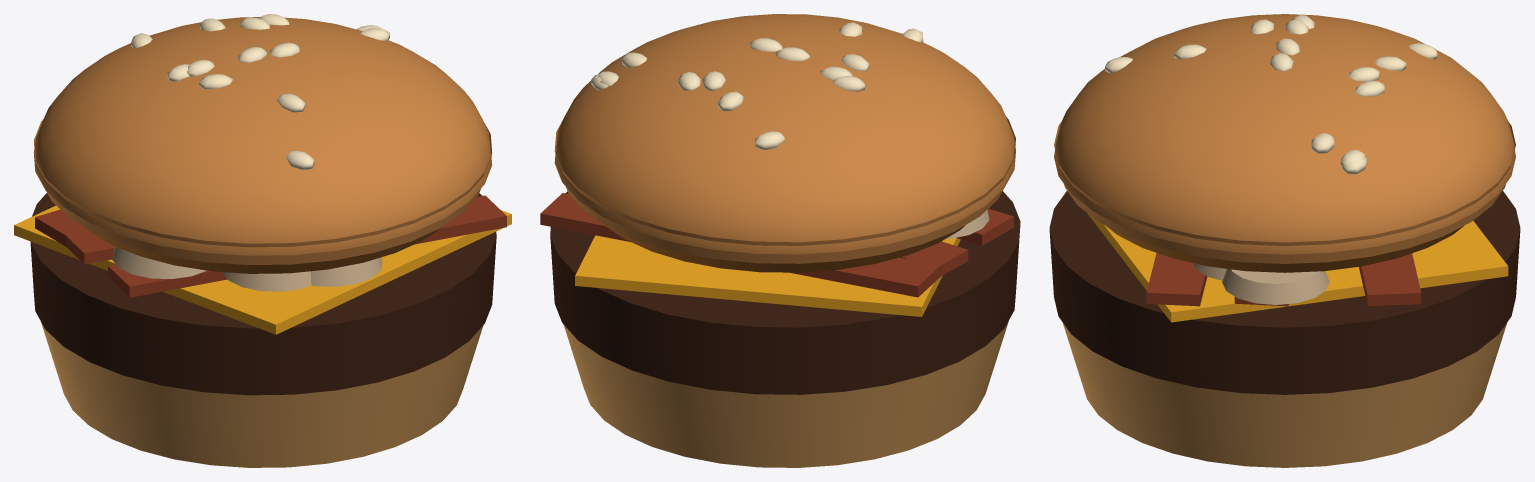
The model's file is burger-res-champi.glb.
3 views of the same model, side by side, from view 1: azimuth 30°, elevation 25°; view 2: azimuth 150°, elevation 25°; view 3: azimuth 270°, elevation 25° (orthographic).
Bounding box in the file's own units: 0.1545 × 0.122 × 0.1545.
